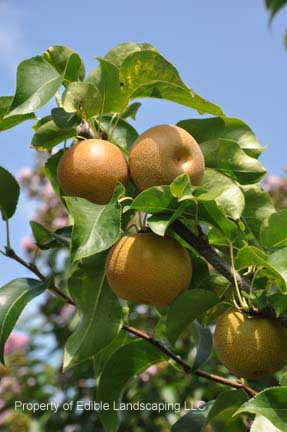pear: (104, 229, 192, 305), (128, 122, 207, 202), (212, 305, 283, 373), (57, 140, 127, 204)
